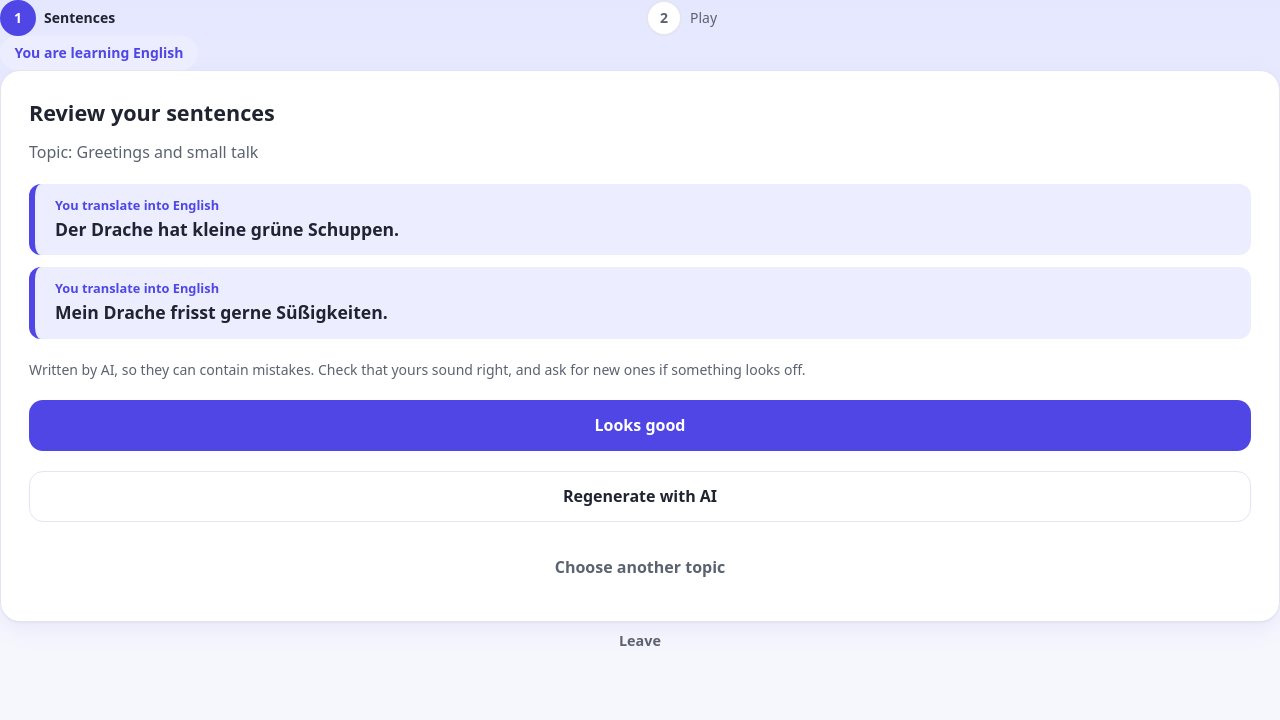
Test: SoloGame › swaps the two languages between rounds, so the next sentences are written in the other one
This screenshot has width=1280, height=720.
Click the button "Looks good".
click(640, 426)  # box 29,400 -> 1251,451
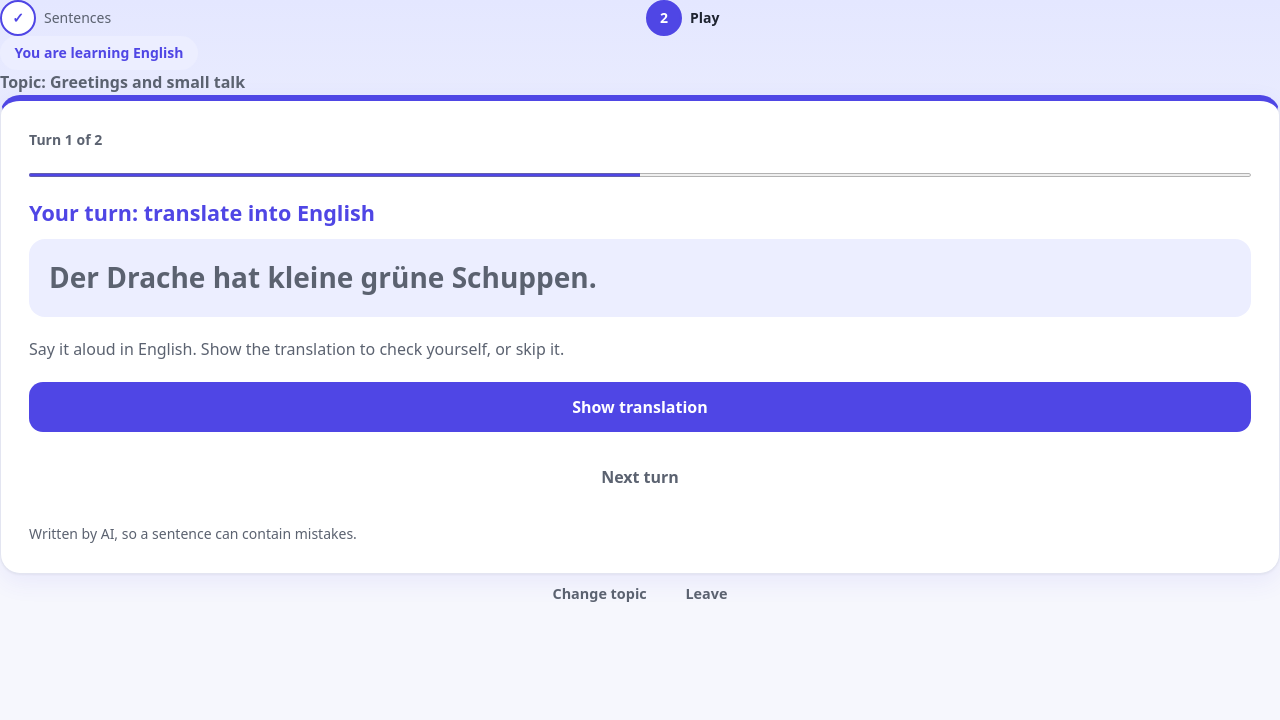
Click the button "Change topic".
click(600, 594)  # box 537,574 -> 662,614
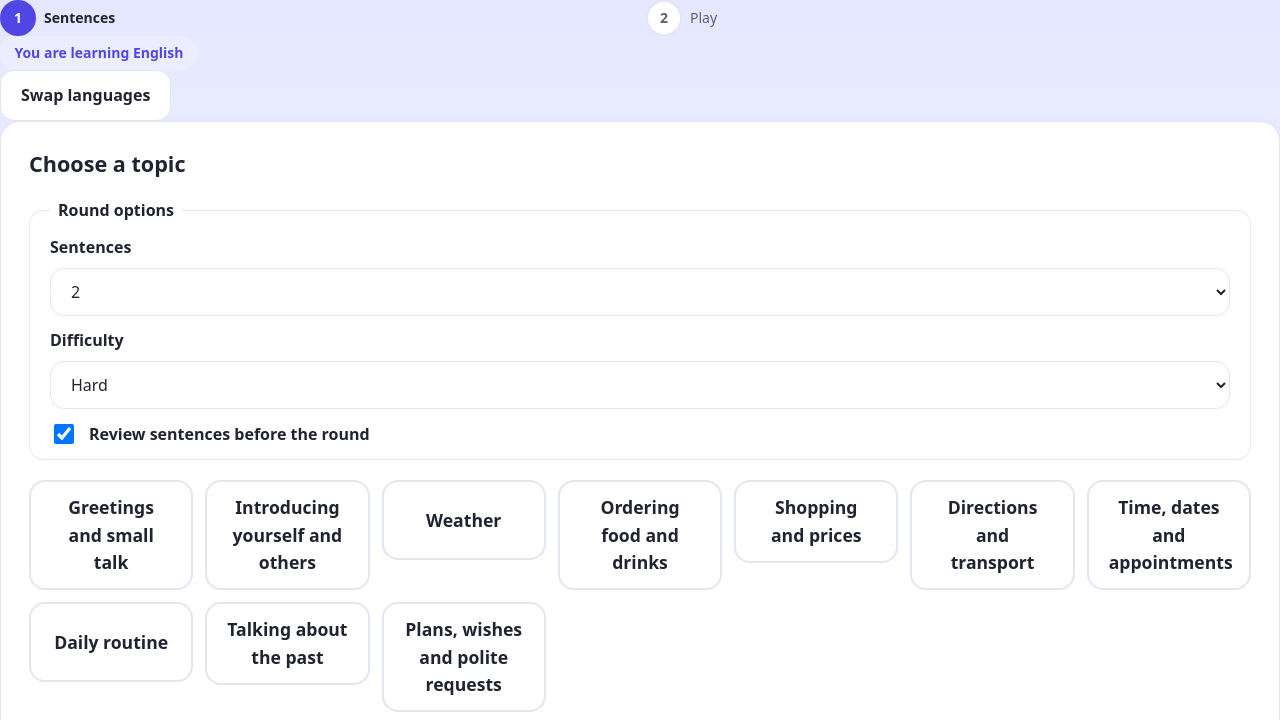
Expected: the list item "You are learning English" is shown, 0,36 -> 198,70
Click the button "Swap languages".
click(86, 96)  # box 0,70 -> 171,121
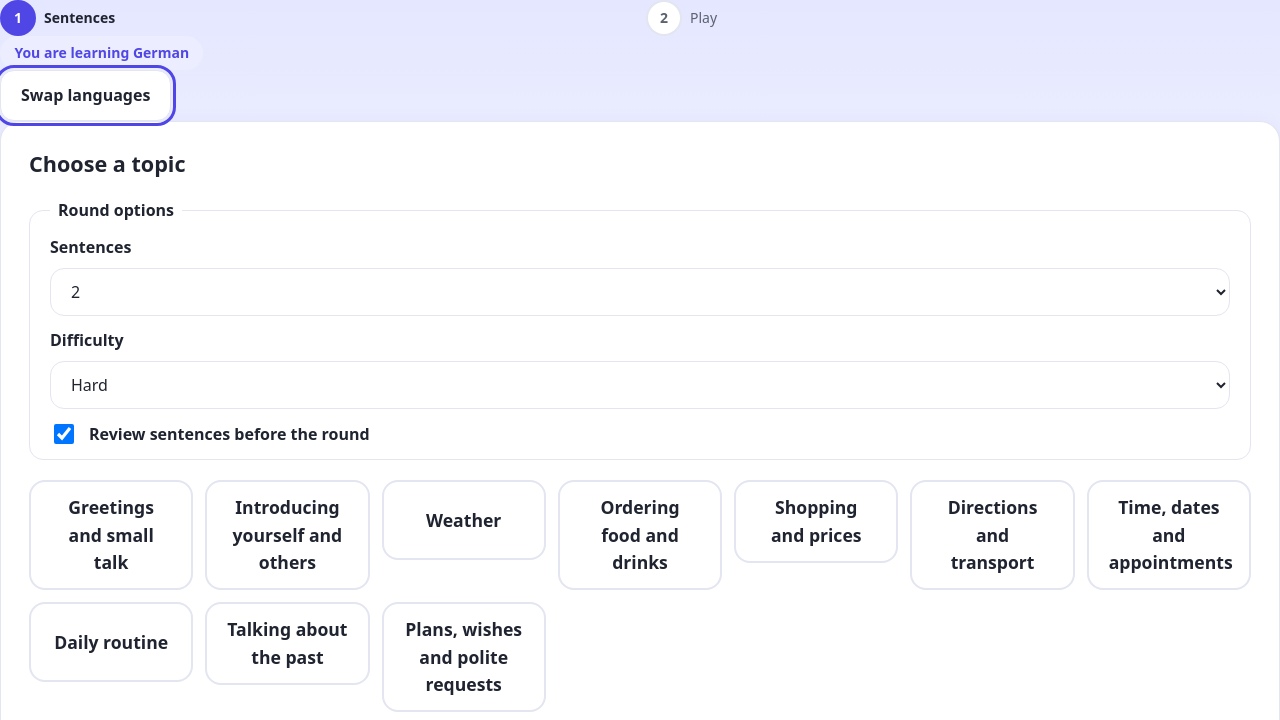
Now the list item "You are learning German" is shown, box 0,36 -> 204,70
Click the button "Weather".
click(464, 520)  # box 382,480 -> 546,560
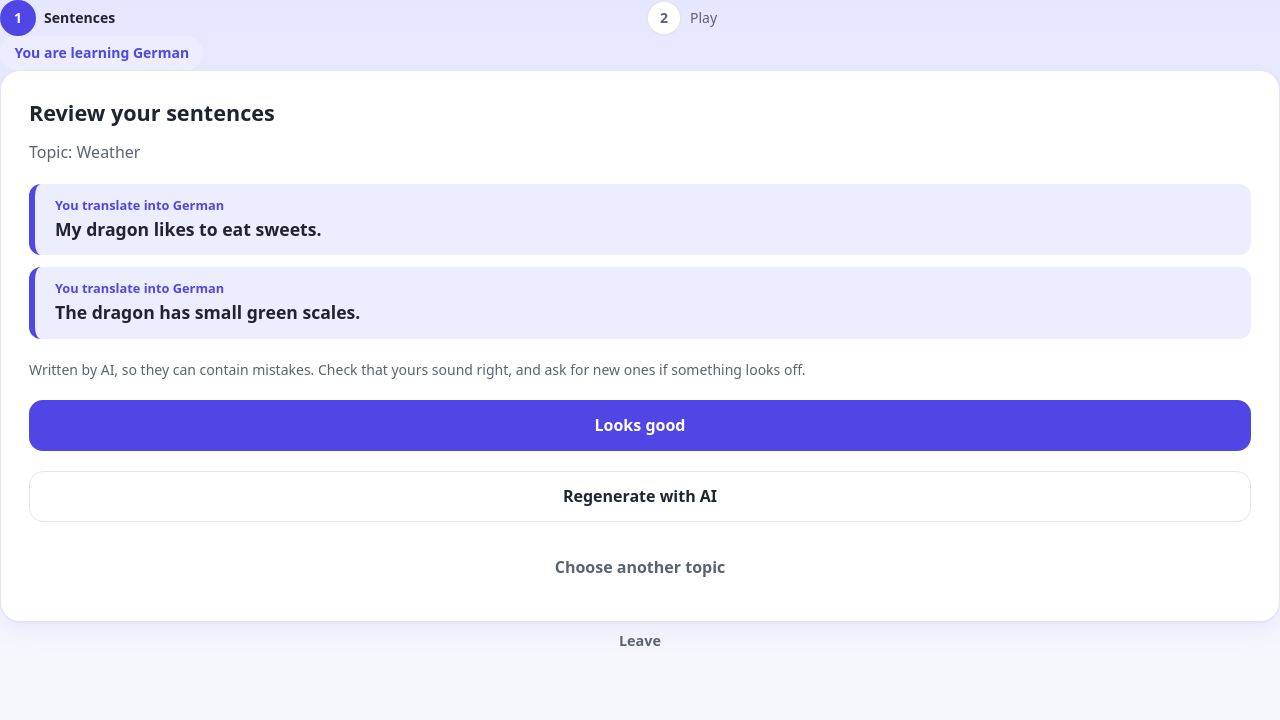
Now the heading "Review your sentences" is shown, box 29,98 -> 275,128
Now the text "You translate into German" is shown 2 times, box 55,196 -> 224,214; 55,279 -> 224,297
